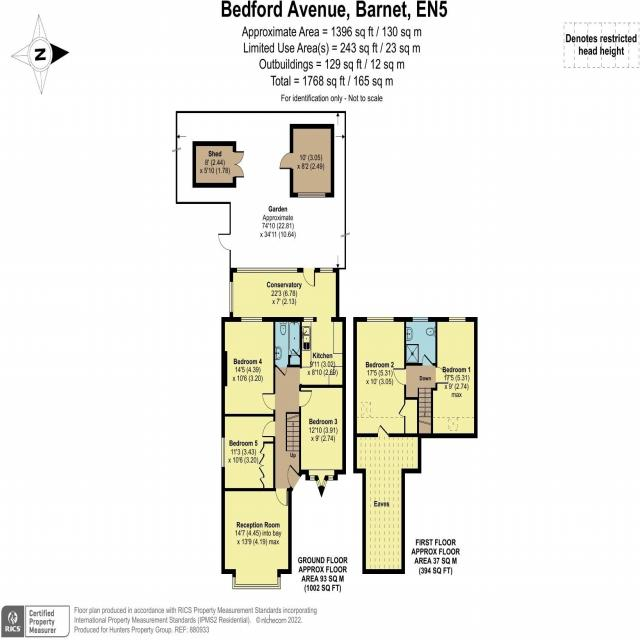DOOR: (287, 463, 301, 490), (435, 366, 449, 384), (393, 368, 406, 386), (275, 488, 288, 506), (262, 420, 275, 438), (299, 390, 312, 407), (262, 393, 275, 410), (276, 365, 288, 377), (422, 353, 433, 366)
ROOM: (221, 488, 292, 590), (353, 317, 406, 437), (431, 317, 478, 438), (221, 317, 275, 417), (299, 384, 346, 498), (221, 414, 275, 491), (299, 317, 346, 388)
WINDOW: (232, 576, 281, 590), (316, 479, 328, 498), (367, 317, 394, 322), (221, 437, 225, 468), (241, 317, 263, 322), (449, 317, 466, 322), (412, 317, 429, 322), (303, 317, 314, 322), (328, 475, 333, 481), (310, 475, 315, 481)
